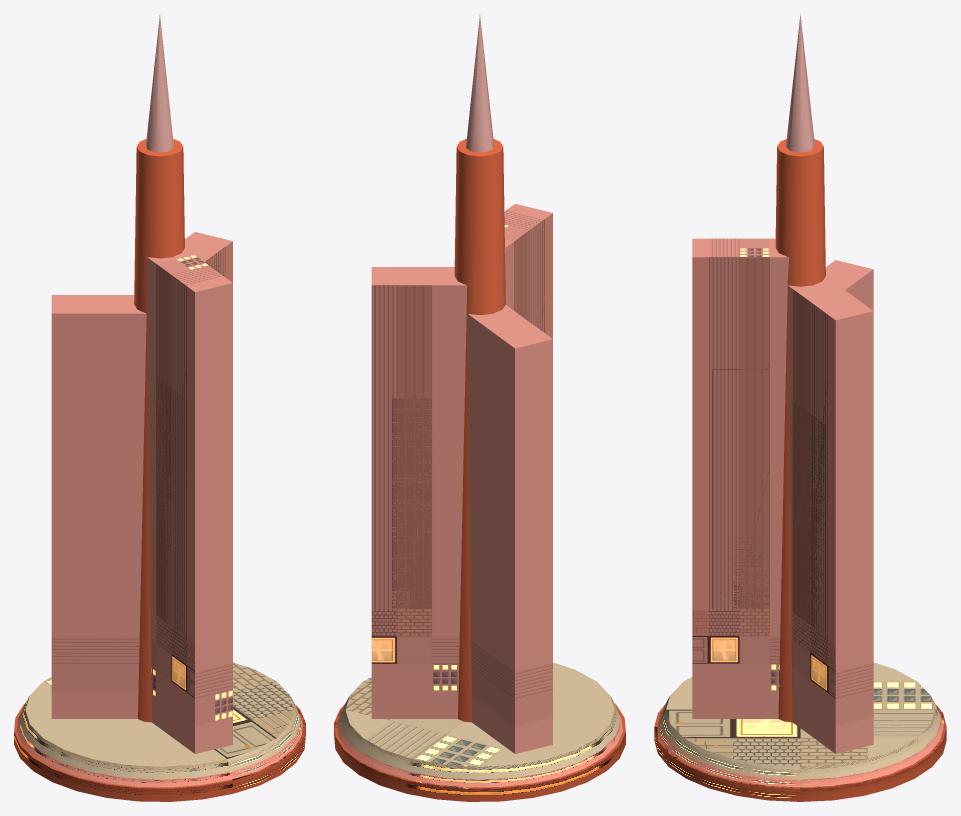
The model's file is tier-15-megatower.glb.
The picture shows the model from 3 angles, left to right: view 1: azimuth 30°, elevation 25°; view 2: azimuth 150°, elevation 25°; view 3: azimuth 270°, elevation 25°; orthographic projection.
Parts seen in each view (by area): view 1: toon (×2), gloss; view 2: toon (×2), gloss; view 3: toon (×2), gloss.
Part boxes in pixels (x1=…): toon (×2): x1=14, y1=232, x2=305, y2=801; gloss: x1=134, y1=15, x2=184, y2=722; toon (×2): x1=334, y1=203, x2=625, y2=801; gloss: x1=454, y1=15, x2=505, y2=722; toon (×2): x1=654, y1=238, x2=946, y2=801; gloss: x1=775, y1=14, x2=825, y2=722.
Size of the model in its own units: 1 by 2.74 by 1.
Materials: 2 (1 with a texture image).
